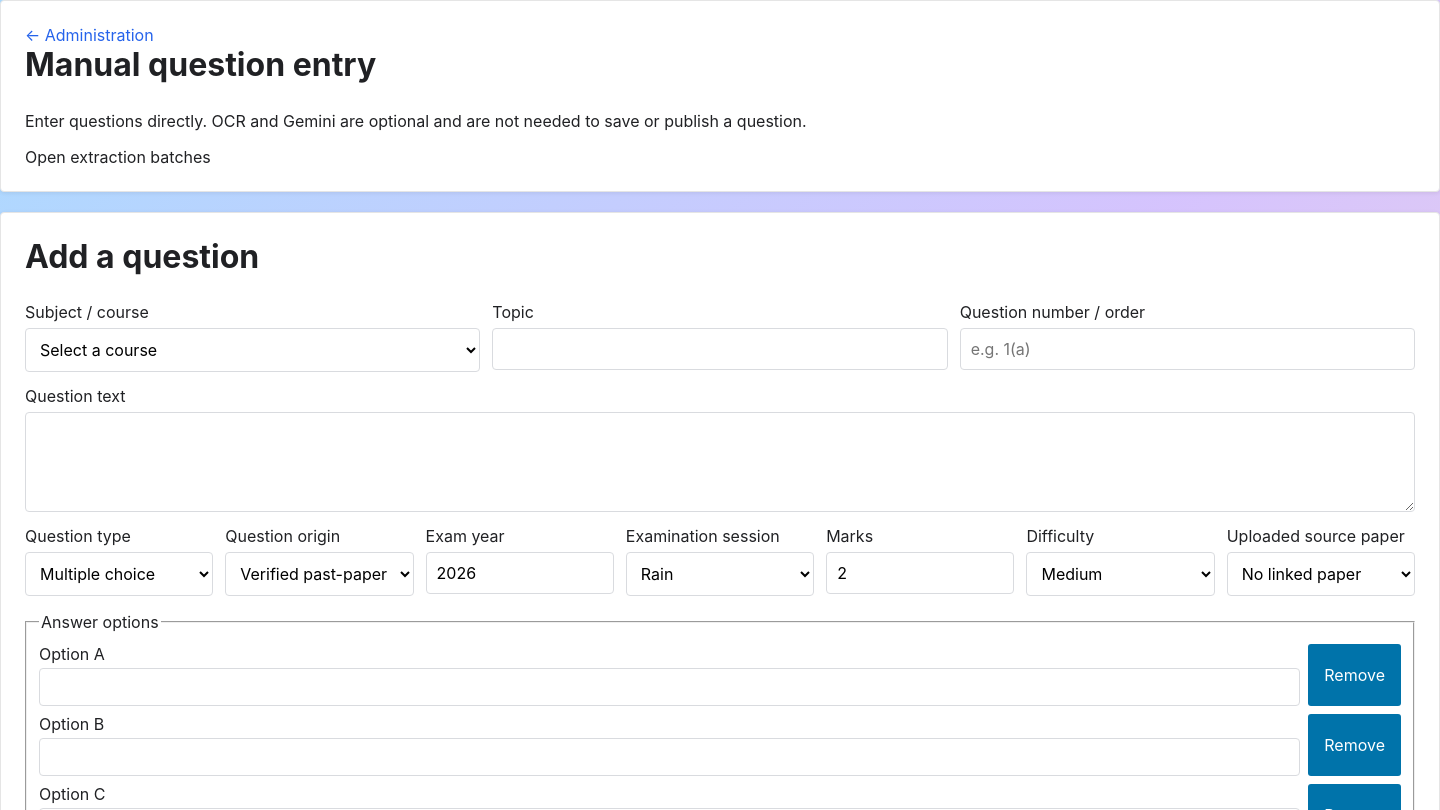
Test case: manual question editor › publishes an original practice question without past-paper provenance
Select "MAT101 — Mathematics" in the dropdown labelled "Subject / course" at [253, 350], box x1=25 y1=328 x2=480 y2=372
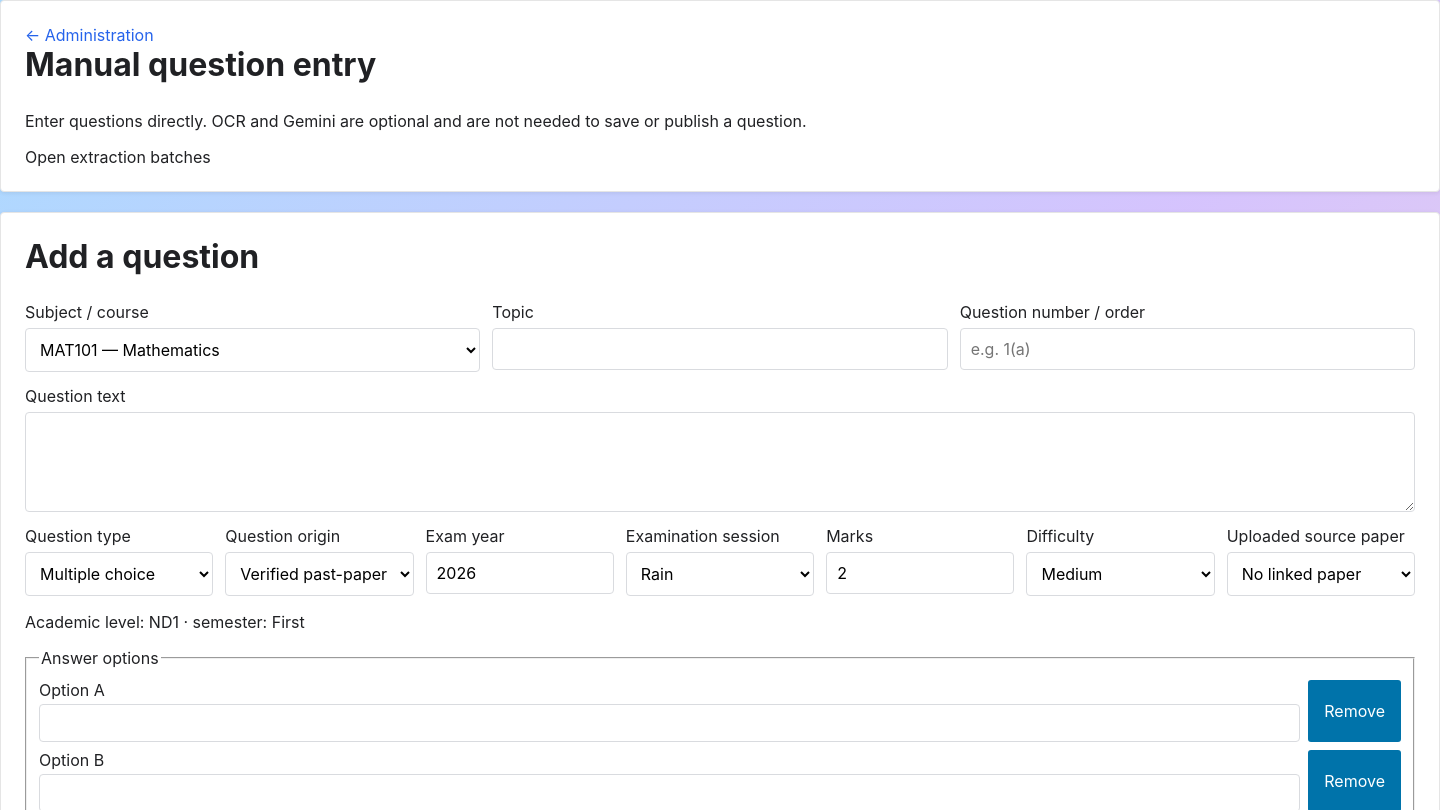
Select "Original practice question" in the dropdown labelled "Question origin" at [319, 574], box x1=225 y1=552 x2=414 y2=596
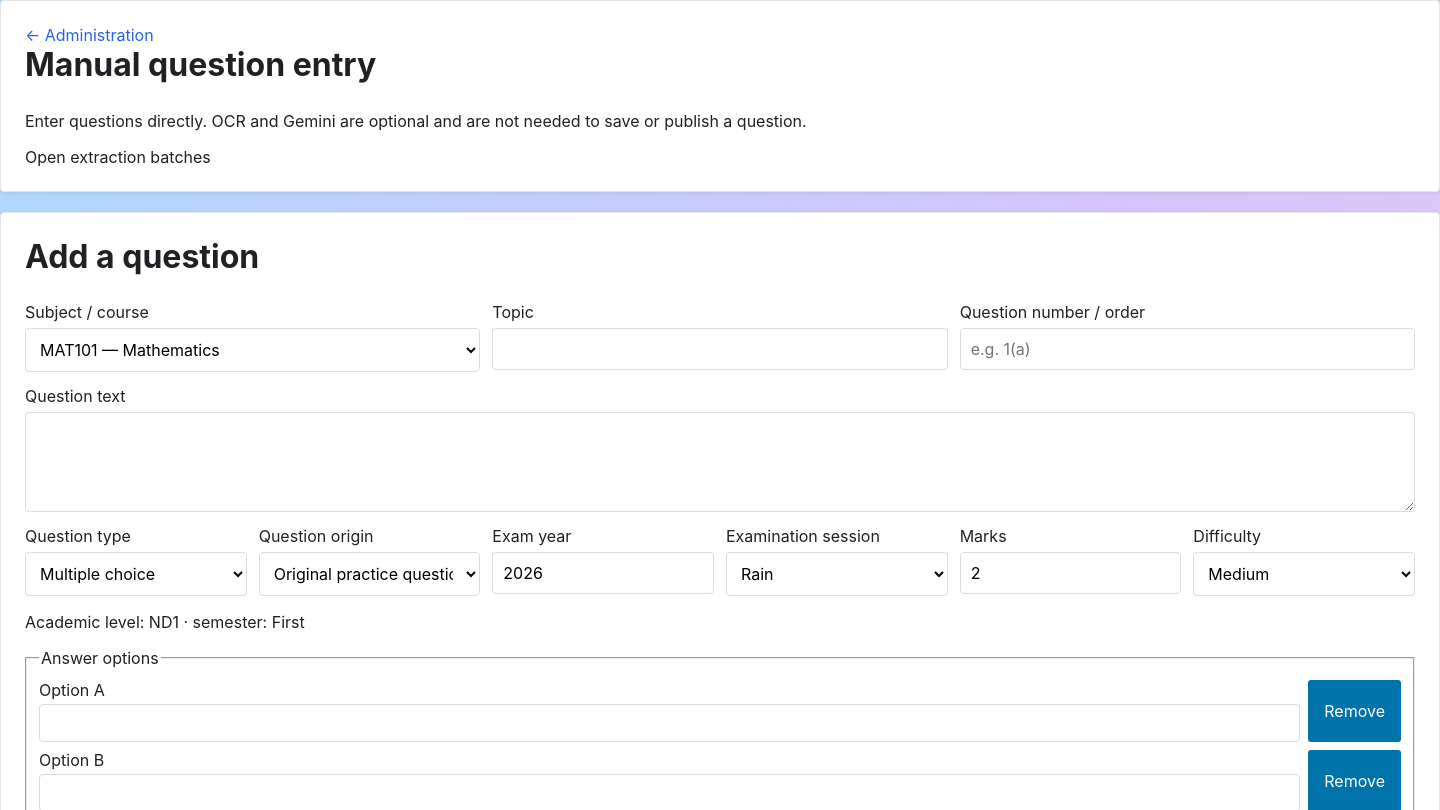
Type "Networks" into the field labelled "Topic".
click(720, 349); type("Networks")  # box x1=492 y1=328 x2=948 y2=370
Type "What is a computer network?" into the text box labelled "Question text".
click(720, 462); type("What is a computer network?")  # box x1=25 y1=412 x2=1415 y2=512
Type "Connected devices" into the field labelled "Option A".
click(670, 723); type("Connected devices")  # box x1=39 y1=704 x2=1300 y2=742
(page scrolled)
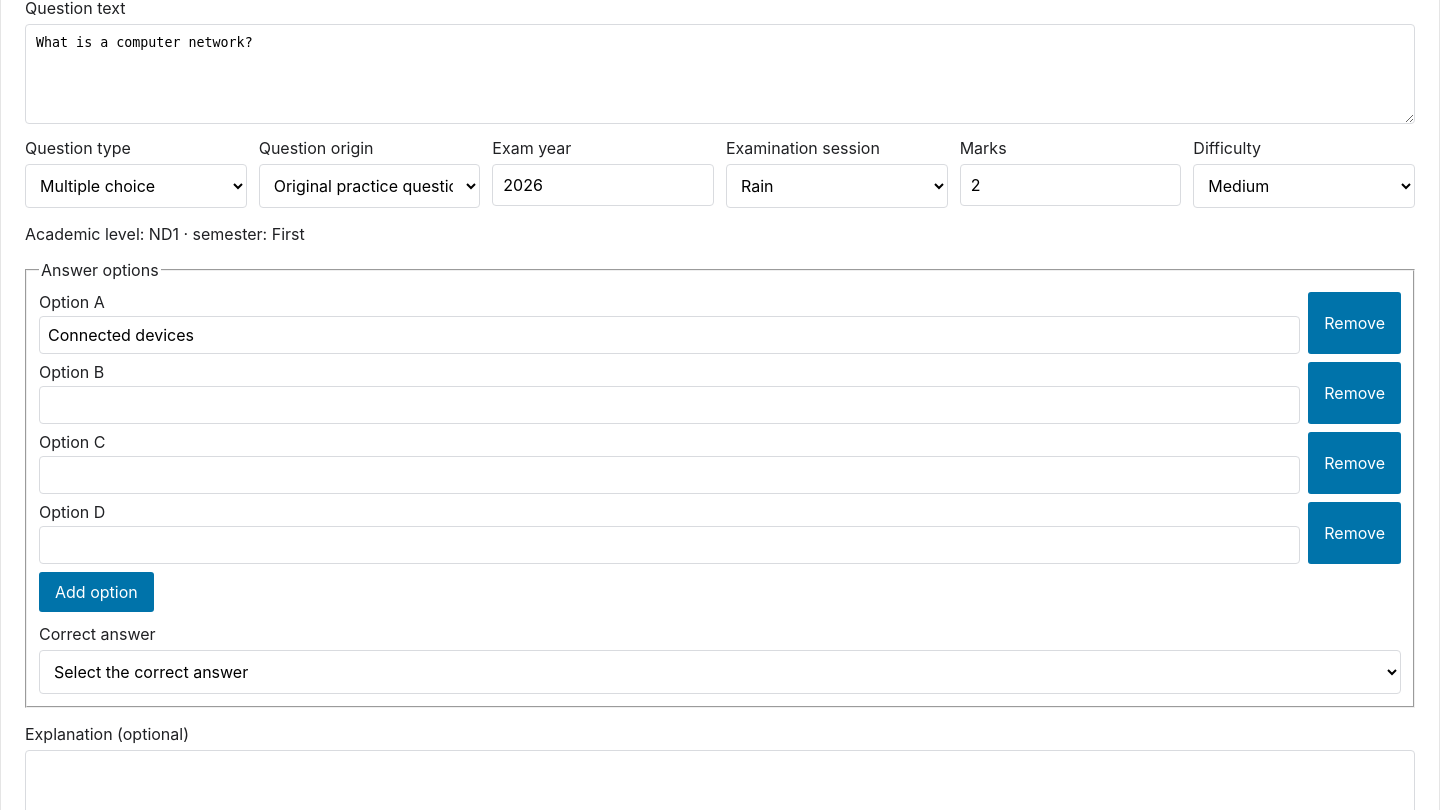
Type "A single isolated device" into the field labelled "Option B".
click(670, 405); type("A single isolated device")  # box x1=39 y1=386 x2=1300 y2=424
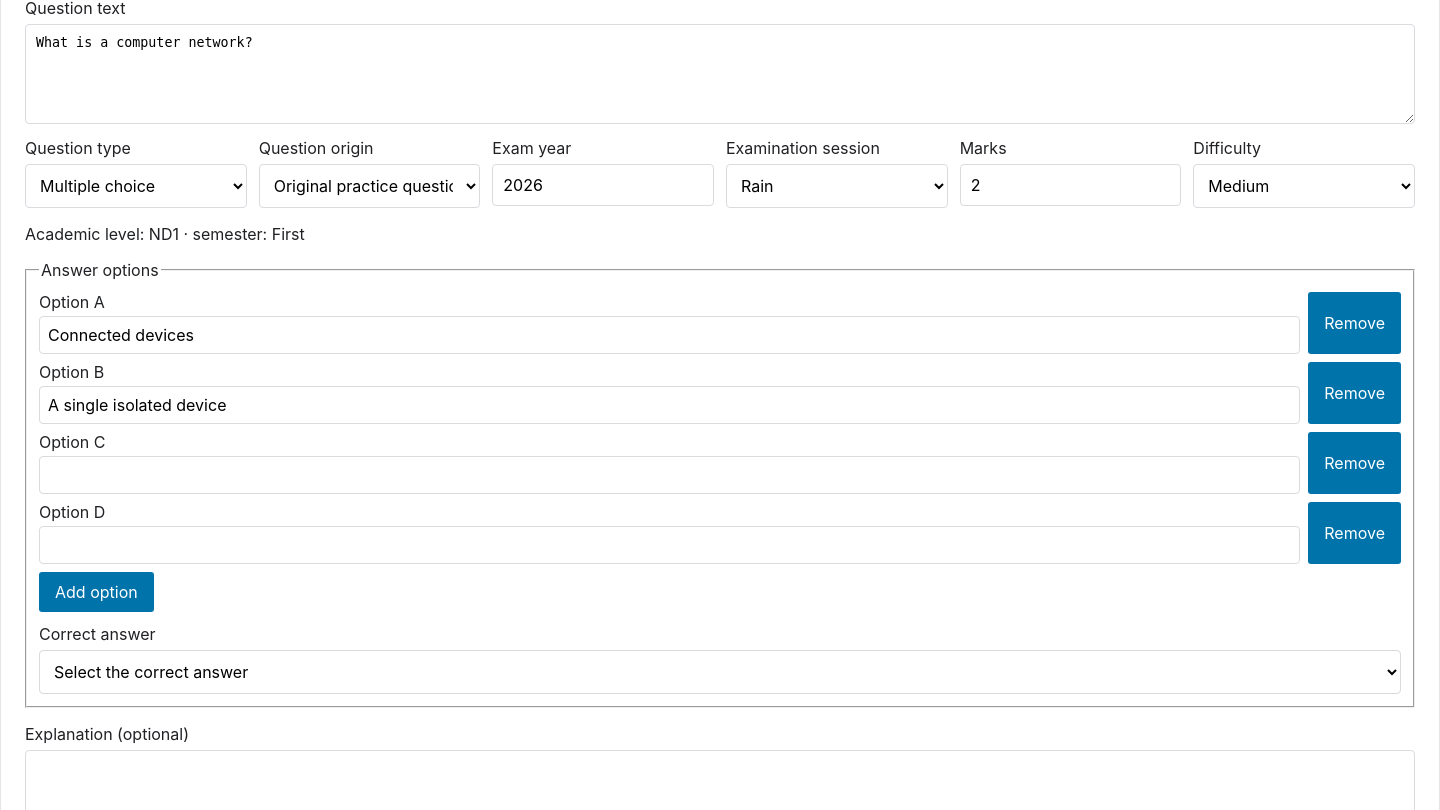
Select "A — Connected devices" in the dropdown labelled "Correct answer" at [720, 672], box x1=39 y1=650 x2=1401 y2=694
(page scrolled)
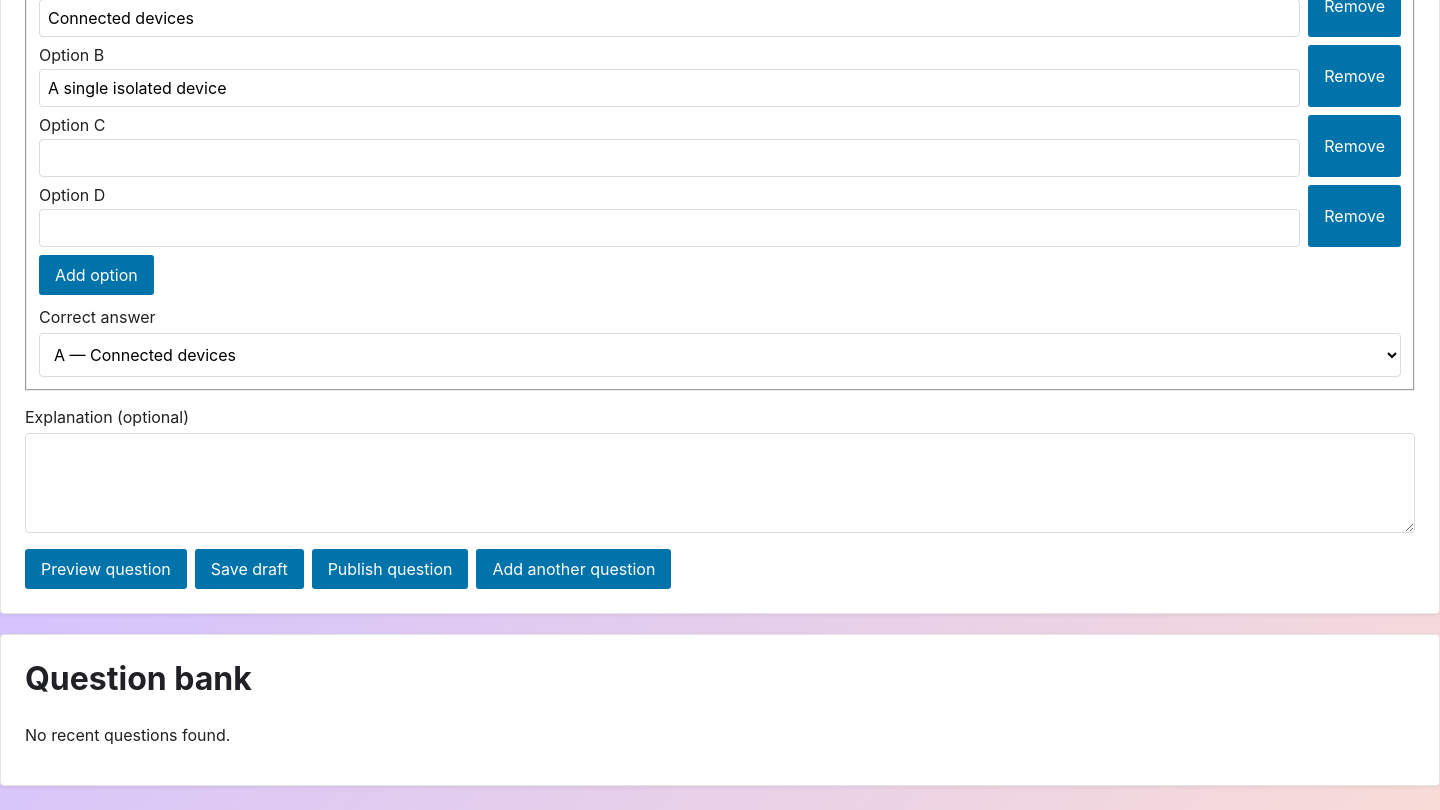
Expected: the label labelled "Uploaded source paper" is not shown
Click the button "Publish question".
click(390, 569)  # box x1=312 y1=549 x2=468 y2=589
(page scrolled)
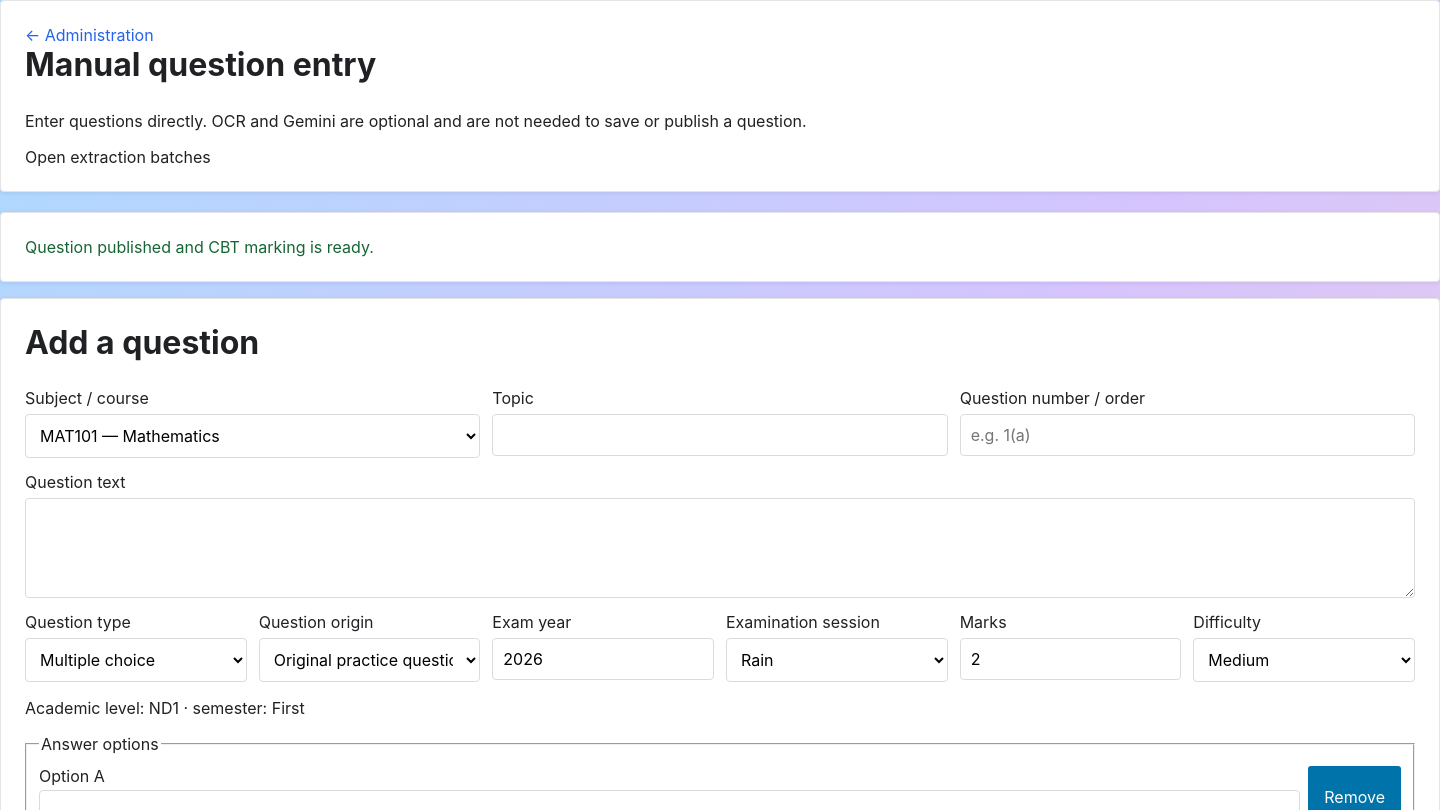
Expected: the text "Question published and CBT marking is ready." is shown, x1=0 y1=212 x2=1439 y2=282
